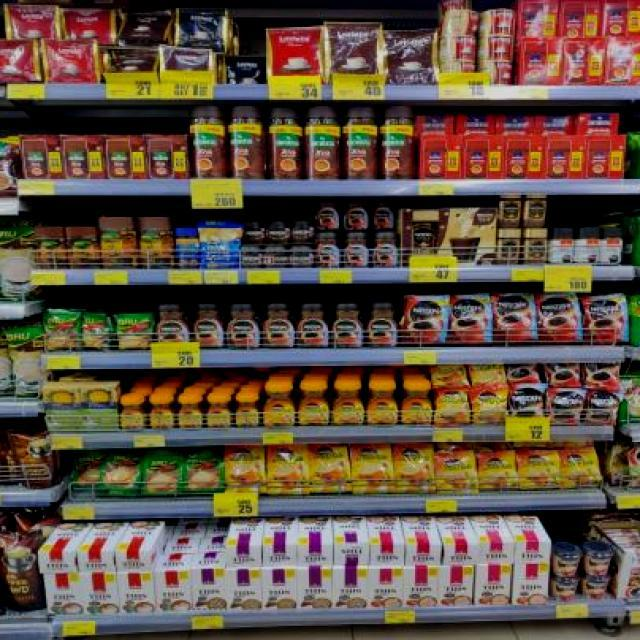Coffee: (402, 296, 448, 346), (493, 296, 537, 346), (540, 296, 583, 346), (268, 444, 310, 494), (223, 446, 265, 496), (450, 295, 490, 347), (586, 296, 629, 344), (394, 443, 434, 492), (310, 445, 350, 494), (352, 443, 391, 493), (227, 303, 261, 350), (296, 302, 330, 348), (436, 452, 475, 492), (332, 302, 365, 348), (263, 302, 295, 349), (518, 451, 558, 488), (262, 384, 296, 427), (297, 382, 330, 426), (547, 388, 586, 425), (194, 303, 226, 348), (367, 302, 398, 348), (477, 453, 515, 490), (367, 383, 400, 425), (155, 303, 190, 342), (435, 387, 470, 426), (402, 382, 433, 426), (333, 384, 364, 426), (473, 387, 508, 424), (563, 451, 597, 488), (510, 383, 546, 417), (588, 389, 620, 424), (372, 231, 399, 268), (343, 233, 370, 268), (315, 197, 341, 231), (498, 228, 522, 264), (119, 398, 146, 430), (344, 197, 369, 231), (524, 229, 548, 264), (316, 233, 340, 268), (206, 396, 232, 428), (499, 194, 523, 228), (372, 197, 396, 231), (233, 396, 260, 426), (148, 398, 174, 428), (177, 397, 202, 428), (524, 194, 546, 228), (264, 245, 289, 268), (243, 220, 266, 243), (291, 245, 314, 268), (239, 245, 262, 268), (268, 220, 291, 242), (292, 221, 314, 242)
